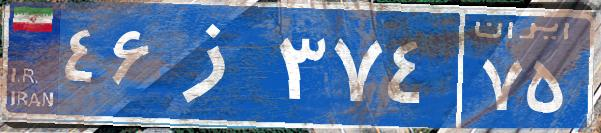3: (273, 28, 330, 110)
4: (385, 28, 445, 110), (57, 26, 110, 107)
5: (525, 38, 570, 115)
6: (110, 28, 158, 105)
7: (330, 28, 385, 110), (475, 38, 525, 113)
ز: (158, 15, 273, 115)
